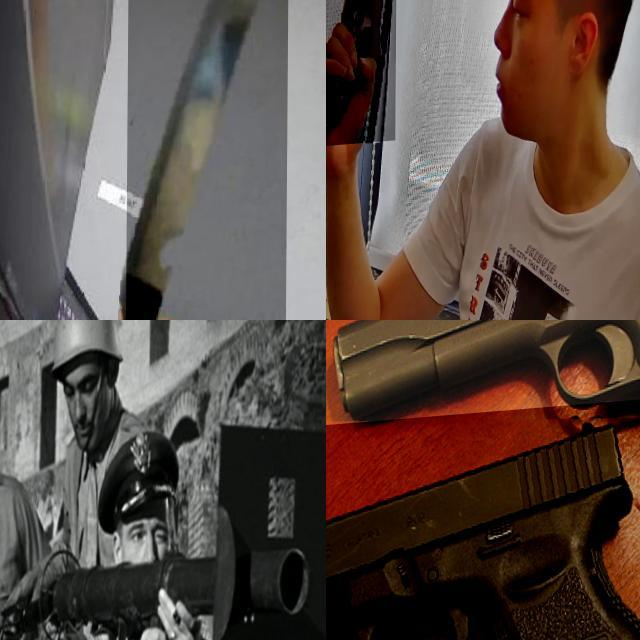-: (126, 0, 289, 320)
gun-knife-thesis - v11 Yolov5 augmented: (326, 320, 640, 574), (326, 403, 640, 640), (326, 0, 397, 151)
